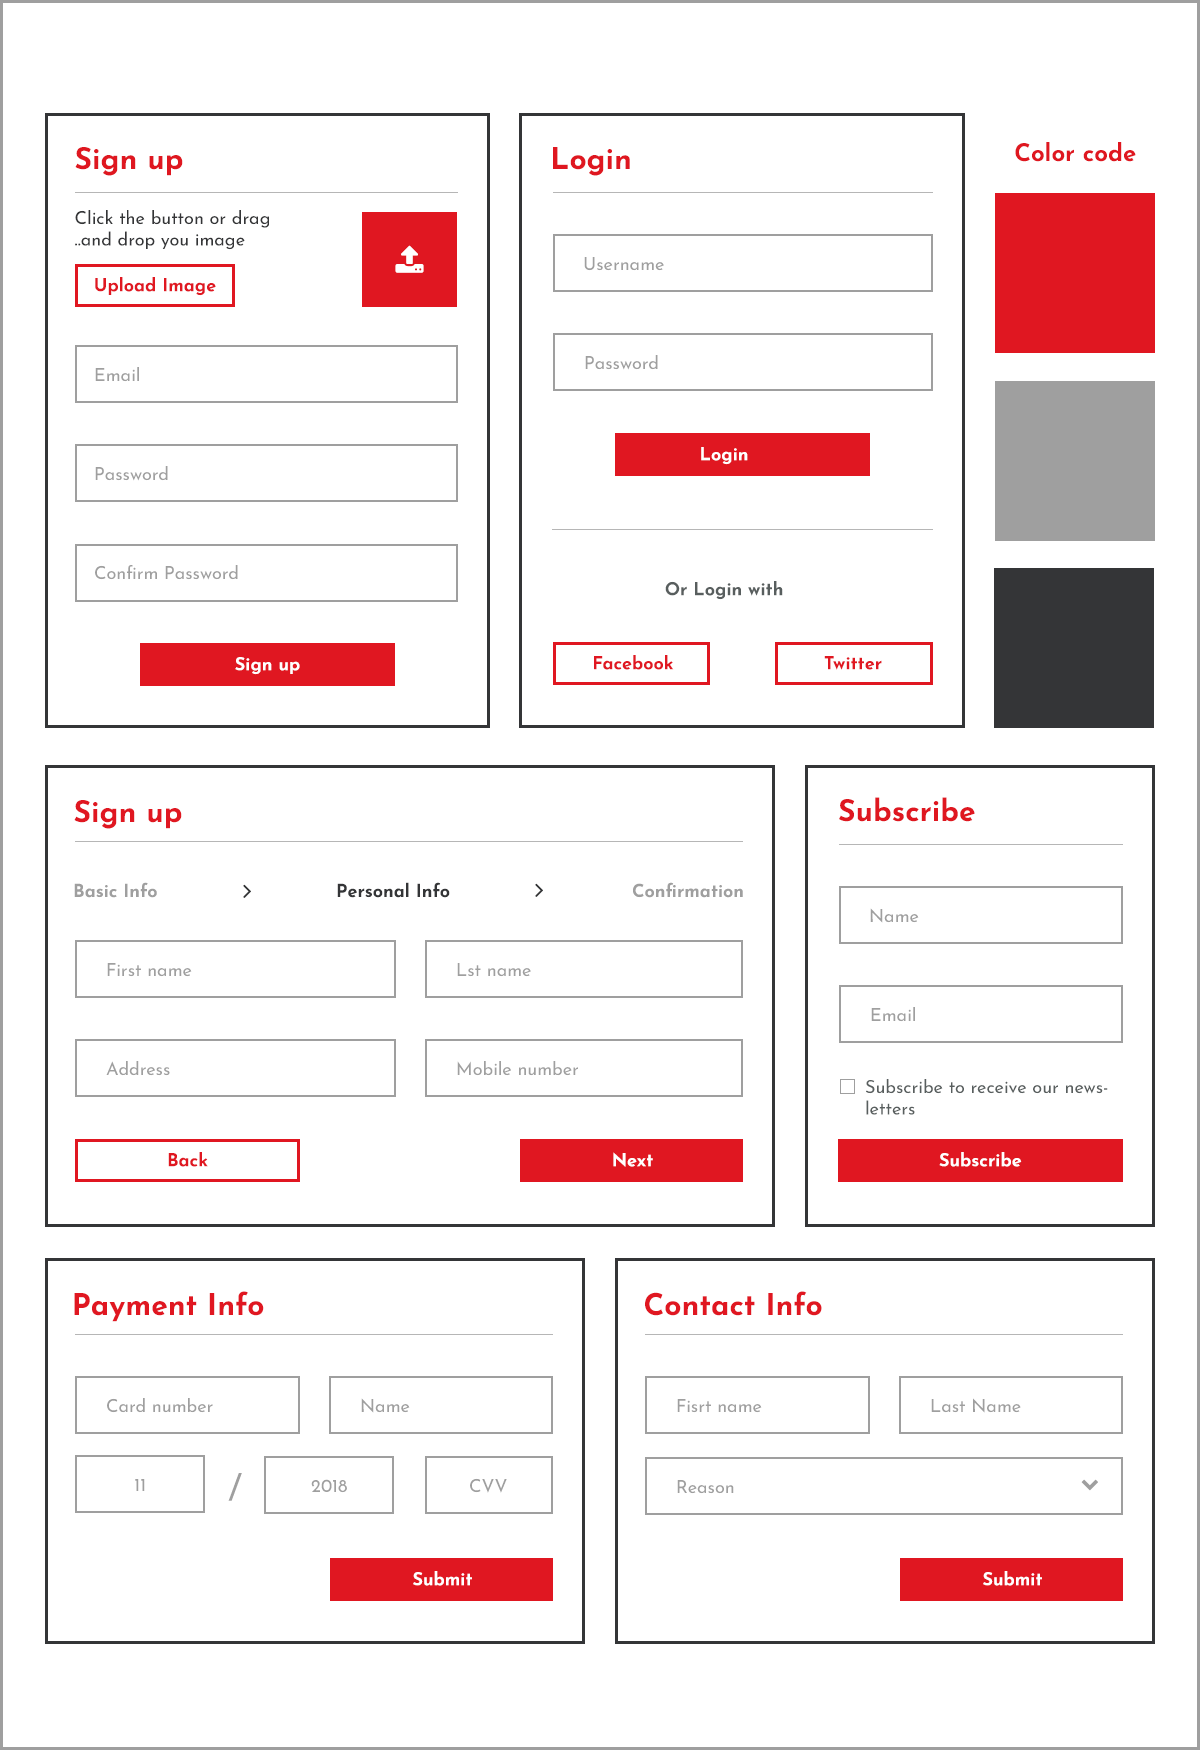button: (834, 1136, 1125, 1185), (611, 430, 875, 479), (138, 641, 400, 689), (72, 1136, 307, 1185), (327, 1555, 556, 1605), (897, 1555, 1127, 1604), (518, 1138, 746, 1184), (75, 261, 238, 310), (772, 642, 939, 689), (548, 641, 714, 687)
checkbox: (839, 1076, 859, 1097)
field: (71, 440, 464, 507), (549, 330, 939, 395), (73, 541, 462, 606), (551, 231, 937, 295), (73, 342, 463, 404), (420, 936, 749, 1003), (72, 936, 398, 1003), (72, 1039, 400, 1098), (424, 1039, 746, 1098), (835, 883, 1127, 948), (835, 984, 1125, 1047), (327, 1372, 555, 1437), (898, 1374, 1125, 1436), (71, 1374, 302, 1435), (643, 1375, 873, 1435), (263, 1455, 398, 1519), (72, 1453, 209, 1516), (420, 1453, 557, 1516)
select: (643, 1453, 1125, 1517)
